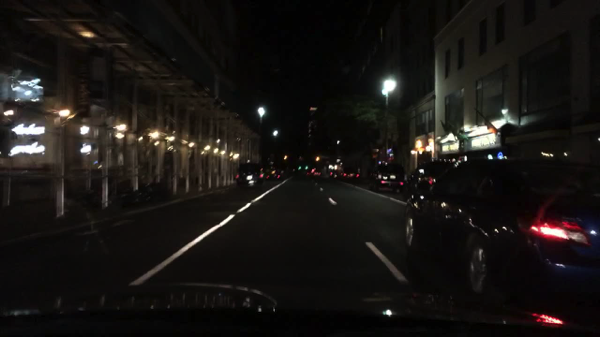car: (404, 159, 599, 323), (401, 159, 458, 205), (367, 162, 405, 196), (234, 163, 266, 190), (339, 166, 360, 182), (265, 169, 281, 182), (328, 169, 340, 180), (313, 170, 323, 177), (304, 172, 311, 177)
